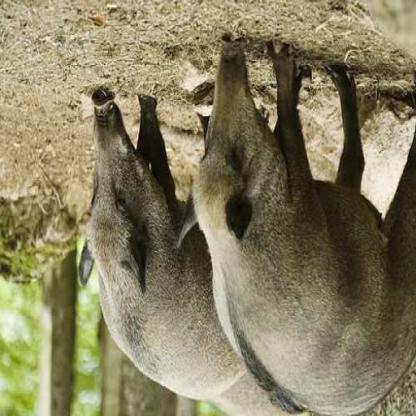boar: (176, 9, 415, 416), (51, 32, 232, 416)
